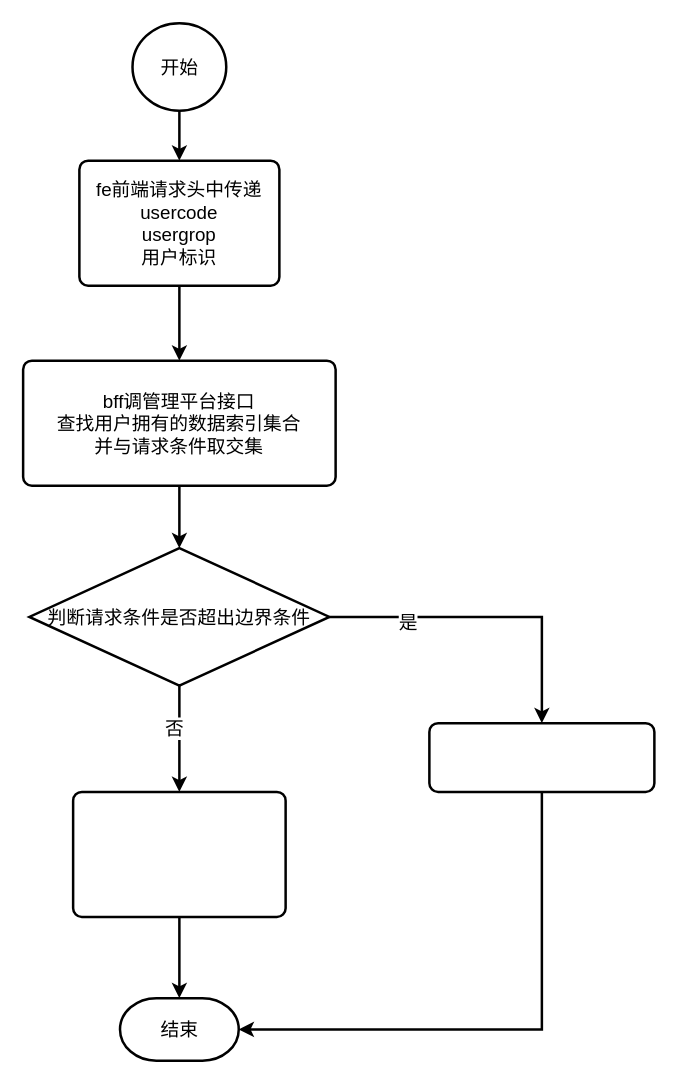
This 676x1083 diagram has some shape labels left out. Here are the shapes that lost their labels. From the top down, the centre of each, then its label:
[541,756]: 响应空数据给fe
[178,854]: 调用灰度中心接口 透传参数
